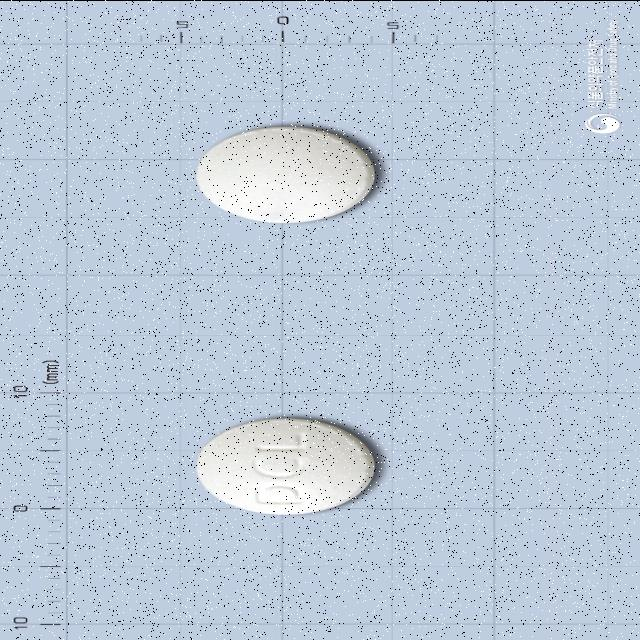Dongkoo Levofloxacin Hydrate Tab: (194, 415, 377, 515)
